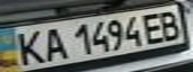1: (69, 20, 93, 56)
4: (87, 18, 112, 53), (121, 12, 145, 47)
9: (106, 17, 127, 52)
A: (36, 25, 69, 62)
B: (157, 8, 187, 41)
E: (139, 10, 169, 44)
K: (9, 27, 48, 66)
